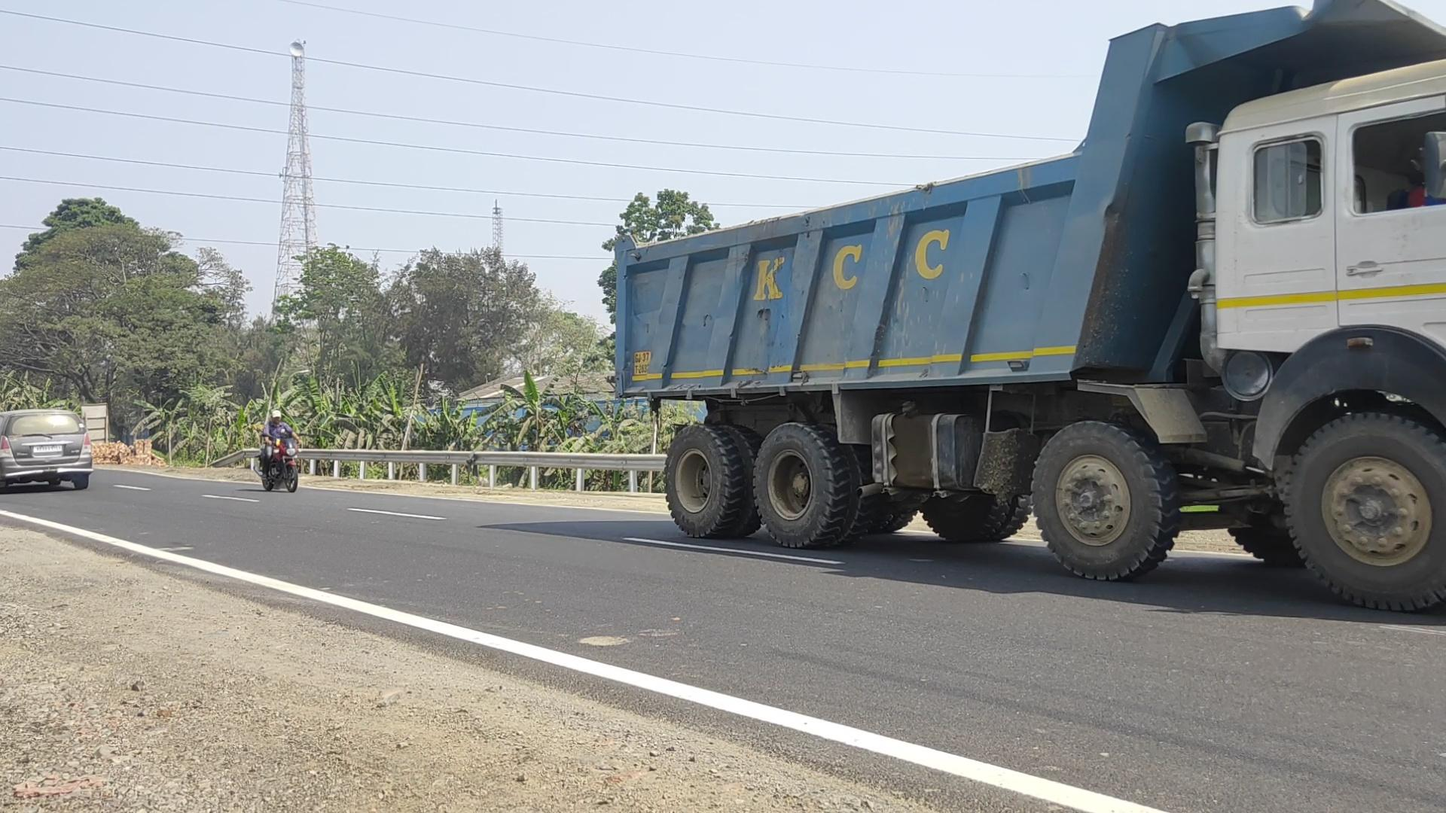bike: (253, 410, 307, 493)
car: (1, 410, 94, 494)
truck: (613, 1, 1446, 614)
